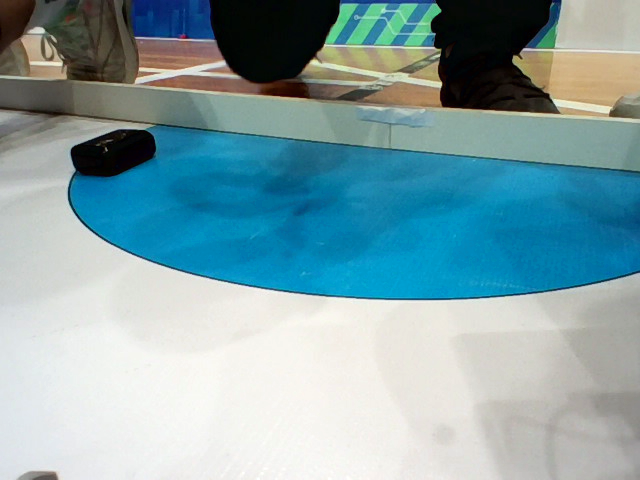black: (63, 117, 196, 198)
